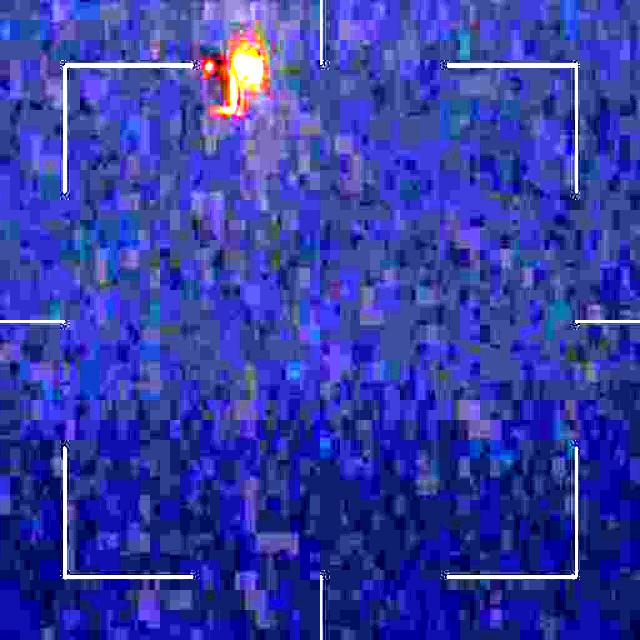bird: (192, 46, 265, 132)
